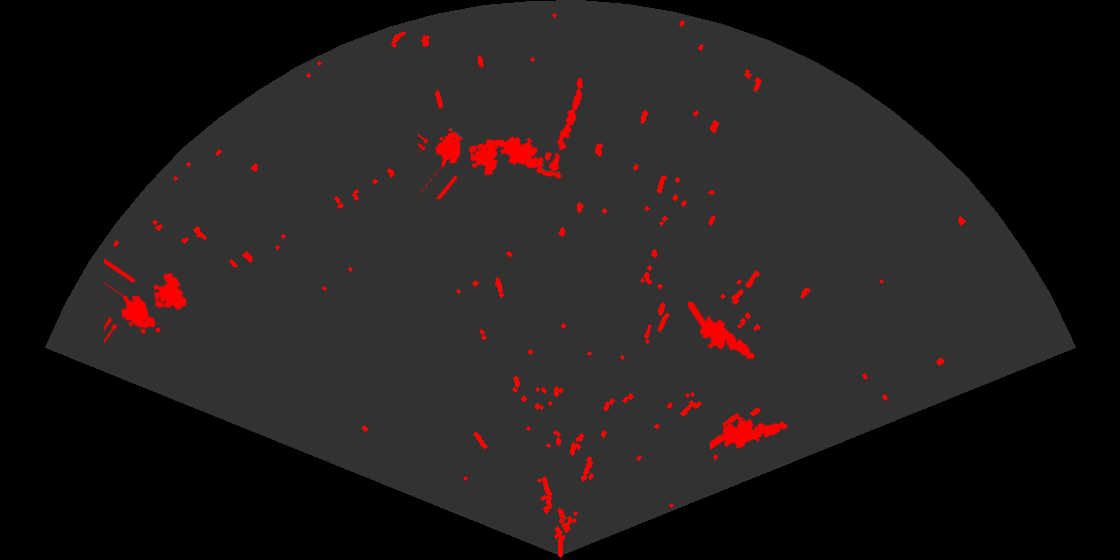cage: (104, 256, 189, 345), (418, 127, 500, 199)
chain: (547, 76, 585, 173)
frogman: (688, 302, 757, 361), (495, 135, 563, 180), (710, 415, 789, 451)
